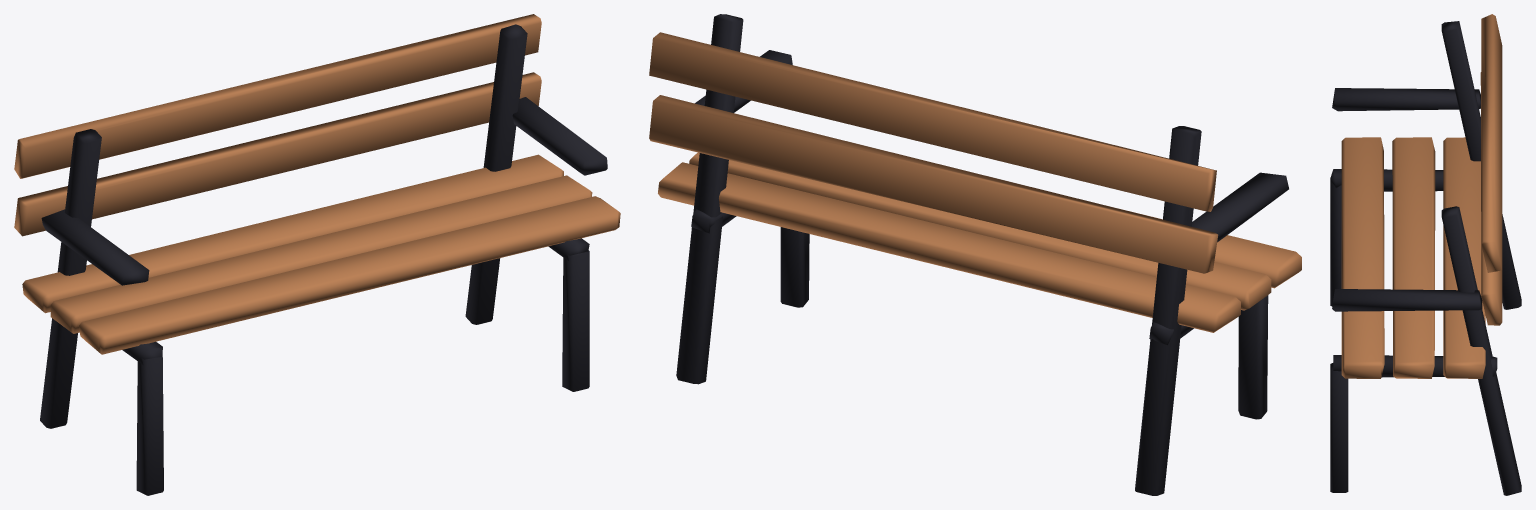
File: bench.glb
3 renders of one model, left to right at view 1: azimuth 30°, elevation 25°; view 2: azimuth 150°, elevation 25°; view 3: azimuth 270°, elevation 25°, orthographic. The views are drawn at different scales.
Visible parts, largest first — view 1: bench; view 2: bench; view 3: bench.
Boxes of the visible parts, bbox=[...] form: bench: bbox=[14, 14, 620, 495]; bench: bbox=[649, 14, 1301, 495]; bench: bbox=[1330, 14, 1521, 495].
Bounding box in the file's own units: 1.59 × 0.9265 × 0.5647.
1 material, 1 textured.
